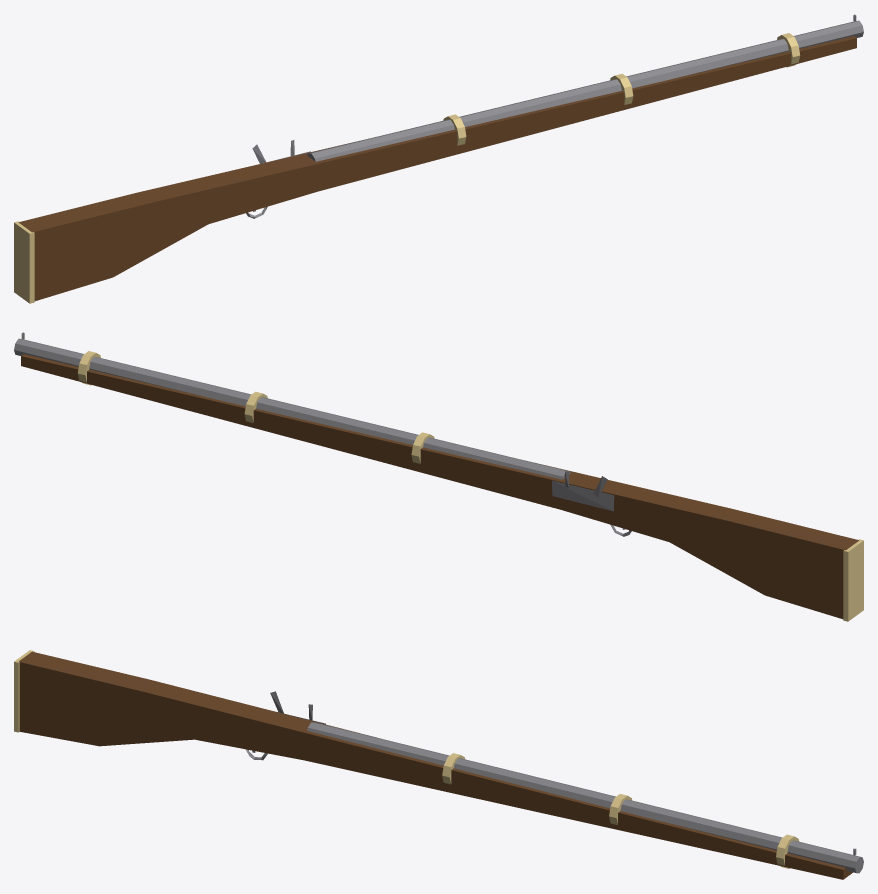
Rendered from jazayer_musket_lod1.glb.
The picture shows the model from 3 angles, top to bottom: view 1: azimuth 30°, elevation 25°; view 2: azimuth 150°, elevation 25°; view 3: azimuth 330°, elevation 25°; orthographic projection.
Visible parts, largest first — view 1: m; view 2: m; view 3: m.
Part boxes in pixels (x1,y1,x2,y2): m: (14, 14, 863, 303); m: (14, 332, 863, 621); m: (14, 650, 863, 879).
Bounding box in the file's own units: 1.76 × 0.1748 × 0.0643.
Materials: 3 (1 with a texture image).
